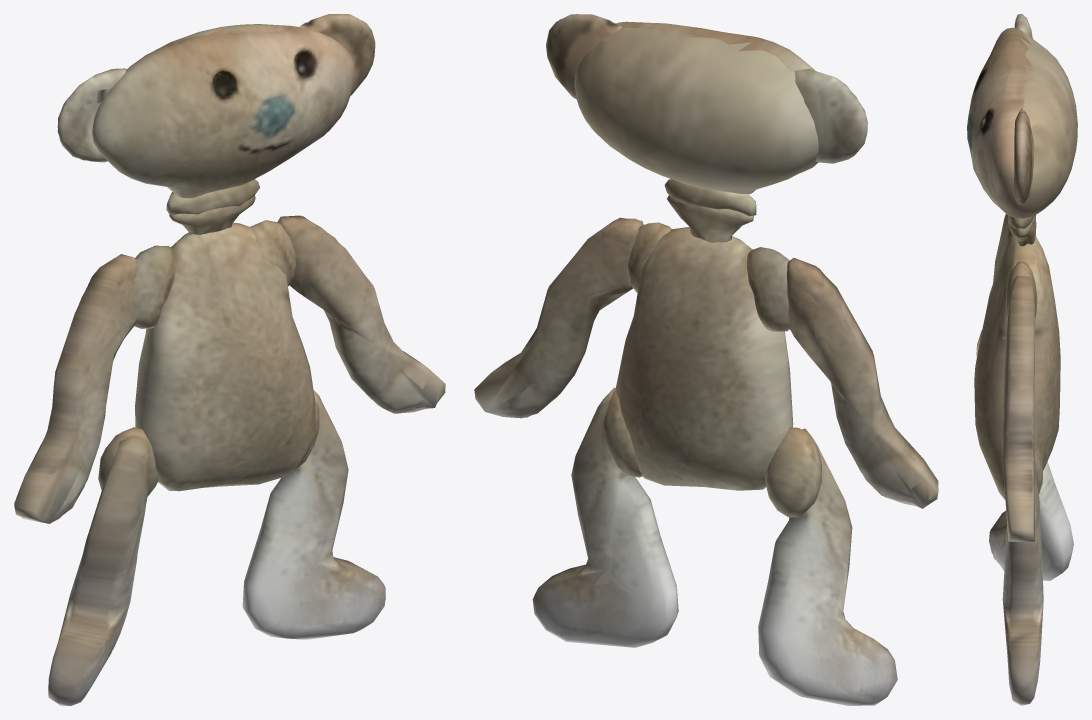
File: bear_alpha_roblox.glb
3 views of the same model, side by side, from view 1: azimuth 30°, elevation 25°; view 2: azimuth 150°, elevation 25°; view 3: azimuth 270°, elevation 25° (orthographic). The views are drawn at different scales.
Parts seen in each view (by area): view 1: Object_2; view 2: Object_2; view 3: Object_2.
Part boxes in pixels (box(x1,y1,x2,y2)): Object_2: box(14, 14, 445, 705); Object_2: box(474, 14, 938, 705); Object_2: box(967, 14, 1077, 705).
Bounding box in the file's own units: 5.48 × 7.56 × 1.3.
1 material, 1 textured.
